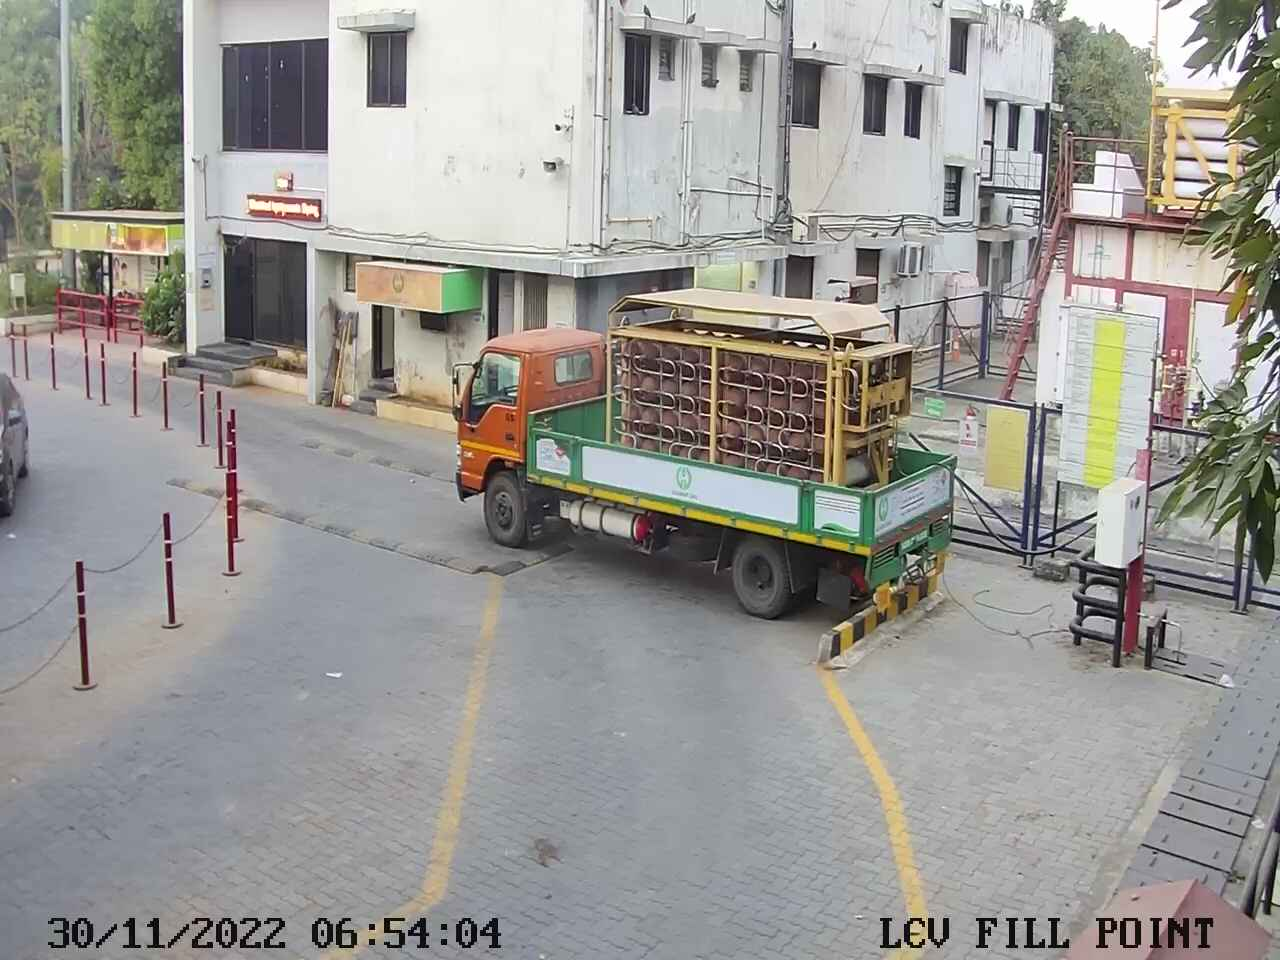Car: (0, 363, 36, 522)
HMV: (444, 275, 969, 678)
